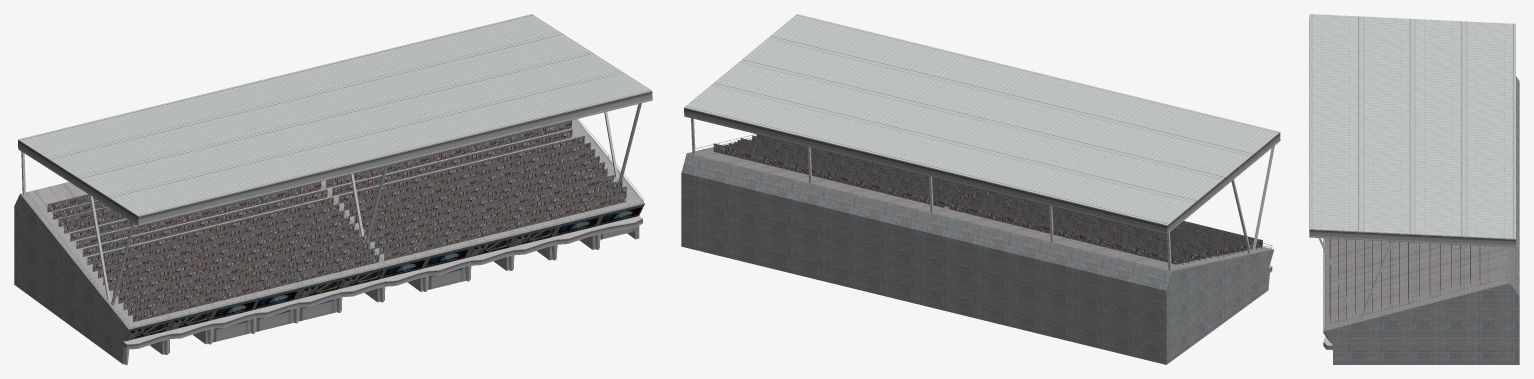
The model's file is Stands03.fbx.
3 views of the same model, side by side, from view 1: azimuth 30°, elevation 25°; view 2: azimuth 150°, elevation 25°; view 3: azimuth 270°, elevation 25° (orthographic). The views are drawn at different scales.
Visible parts, largest first — view 1: Empty_Mesh; view 2: Empty_Mesh; view 3: Empty_Mesh.
Part boxes in pixels (x1,y1,x2,y2): Empty_Mesh: [14, 14, 652, 364]; Empty_Mesh: [681, 14, 1280, 364]; Empty_Mesh: [1309, 14, 1519, 364].
Size of the model in its own units: 93.93 by 27.46 by 38.67.
